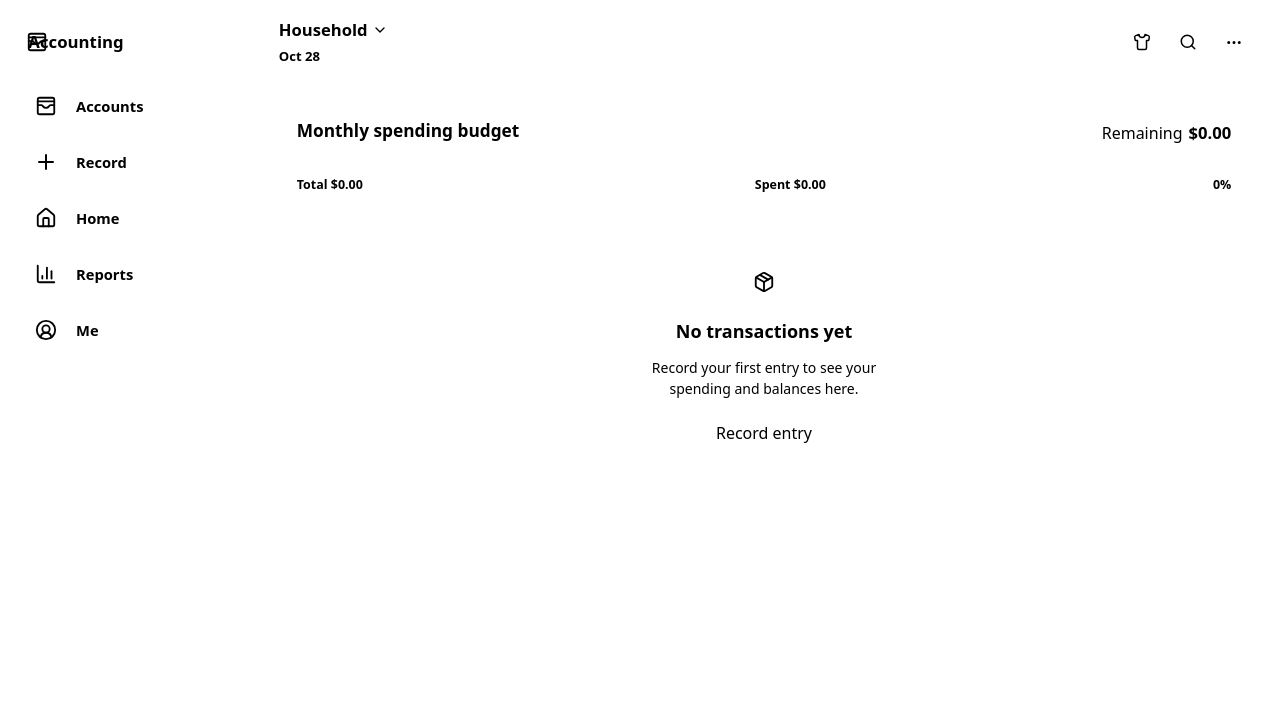
Scenario: App › opens the import view from the Me tab
Click the button "Me". click: (124, 330)
box: 14,304 -> 234,356
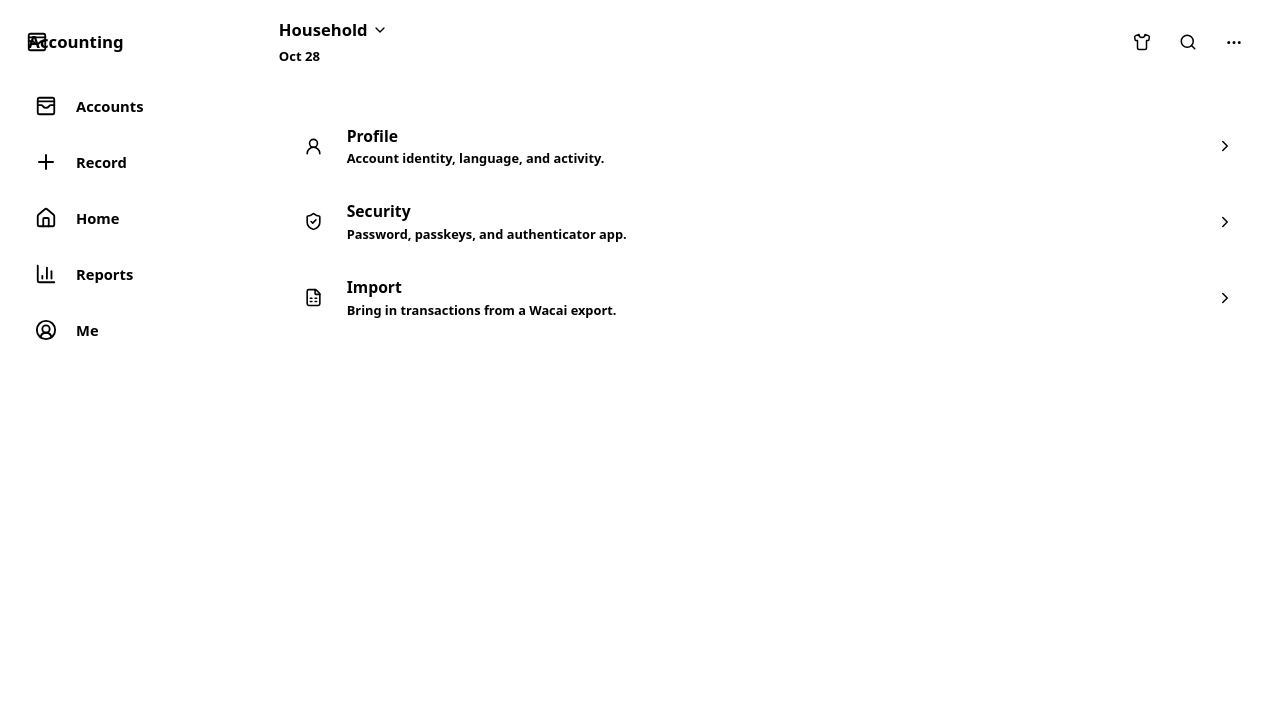
Click the button "Import Bring in transactions from a Wacai export.". click: (374, 287)
box: 279,264 -> 1249,331
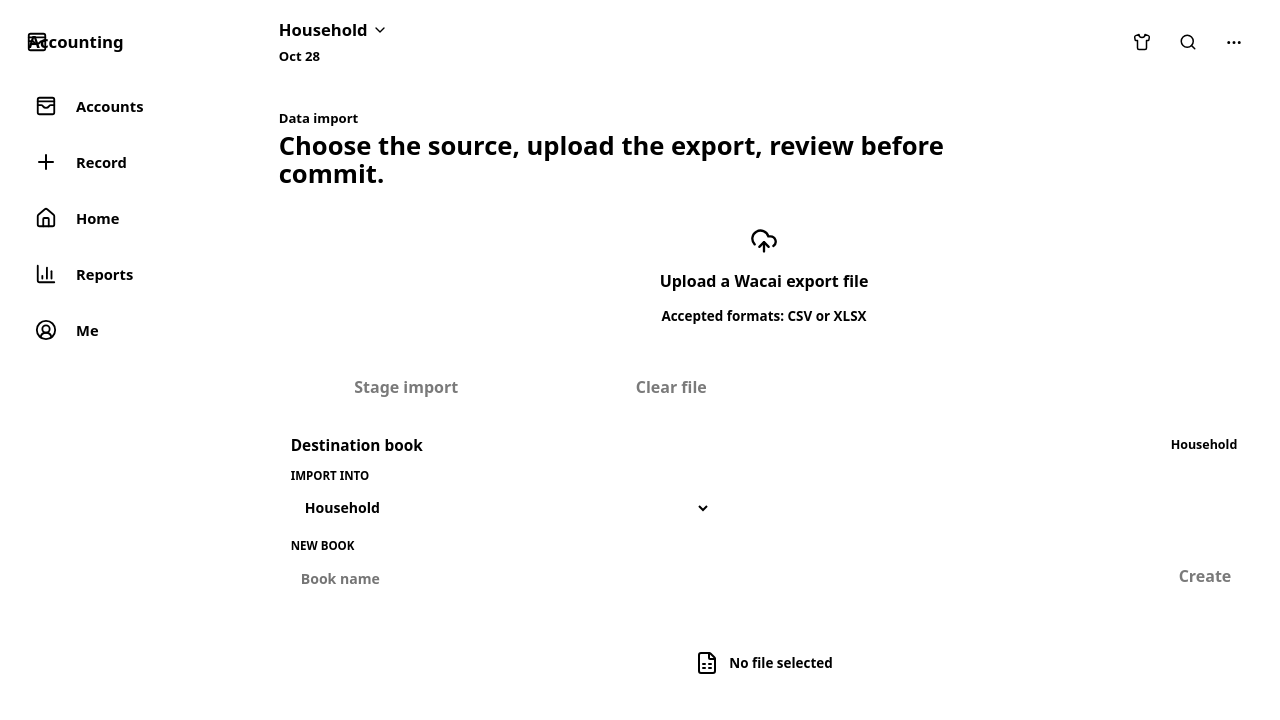
expect the element named "Import data" is shown: met
